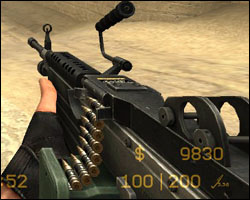rifle: (24, 38, 230, 184)
